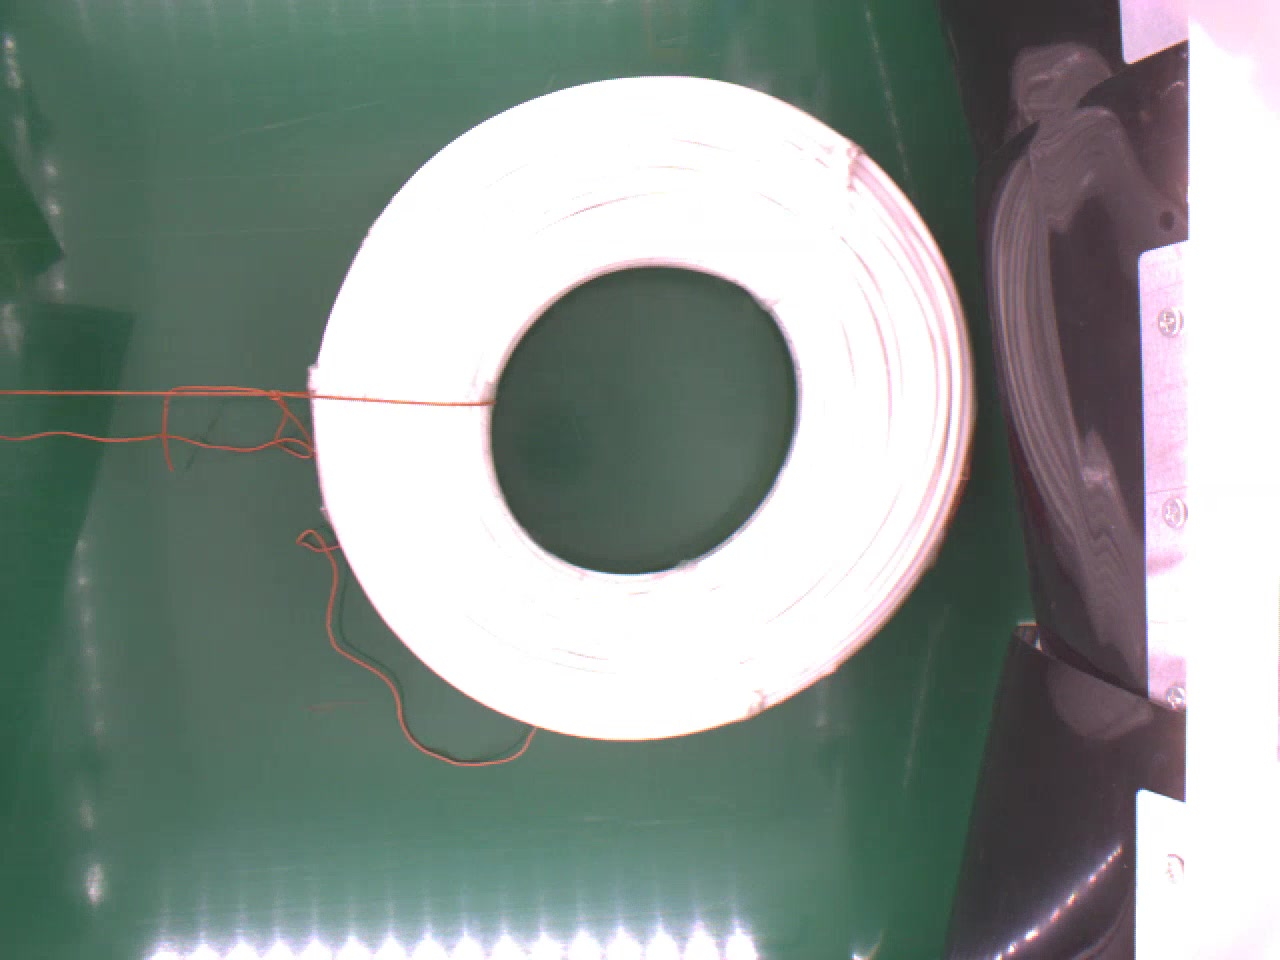white: (305, 70, 983, 741)
